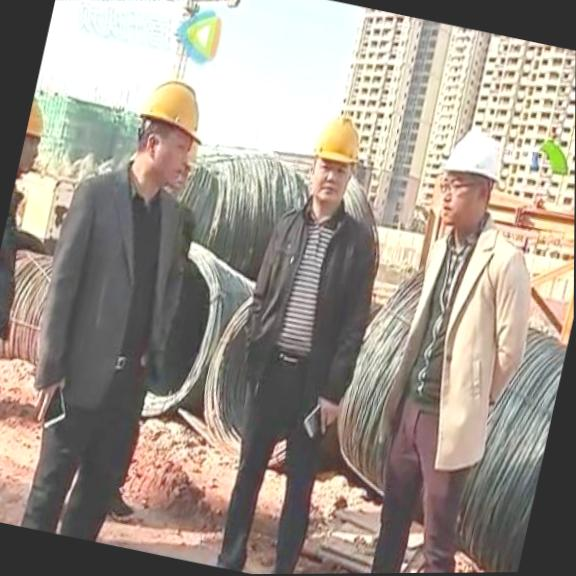no_safety_vest: (368, 207, 556, 477), (22, 154, 203, 422), (226, 181, 396, 416), (0, 162, 57, 412)
